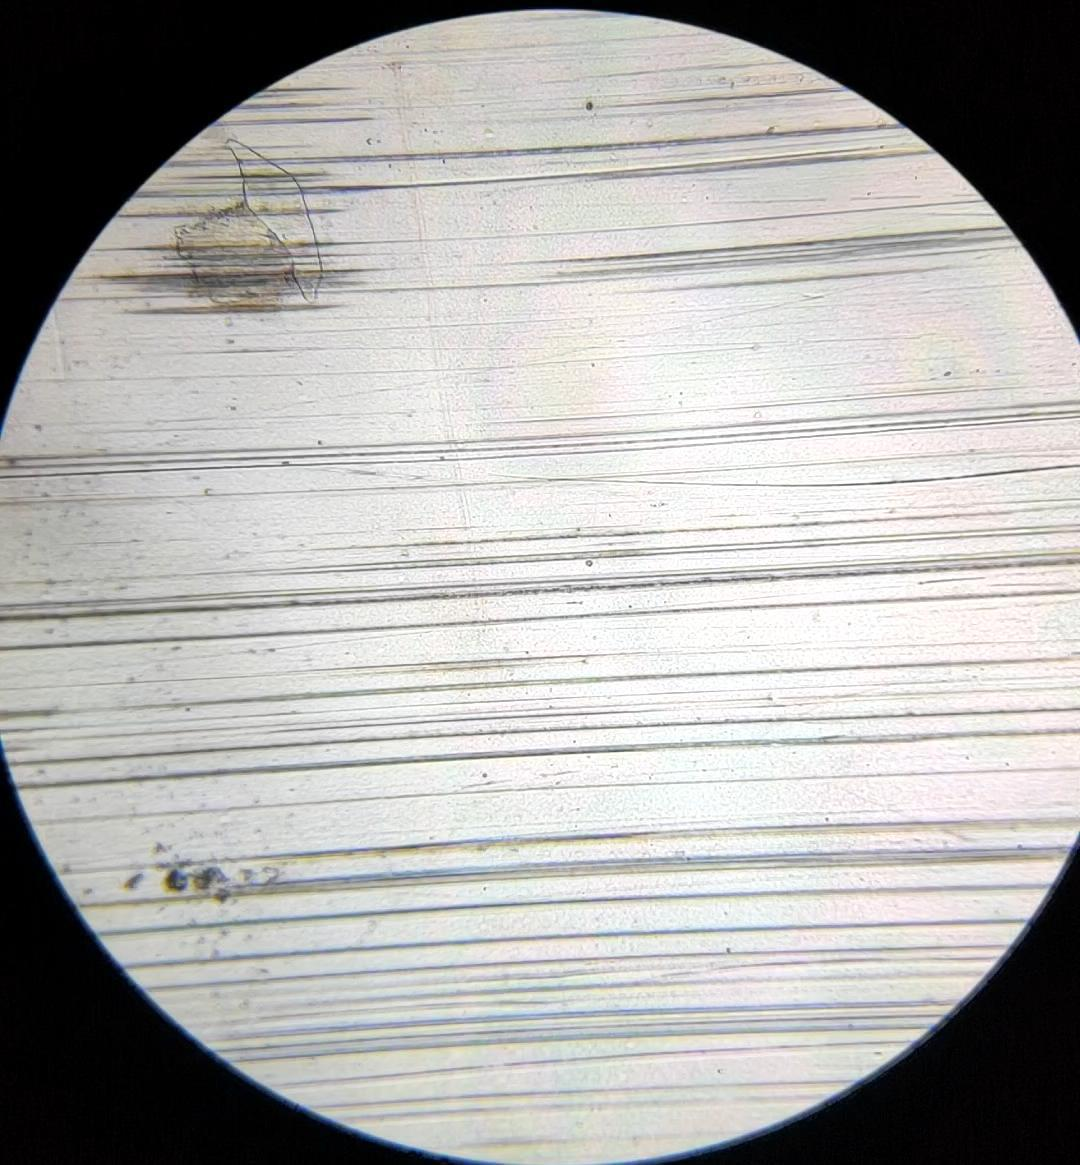Do: (222, 137, 322, 303)
